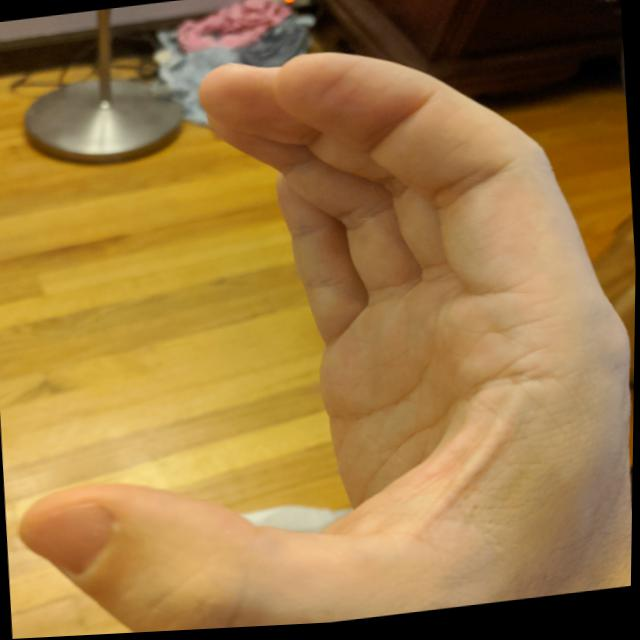C: (0, 9, 639, 639)
